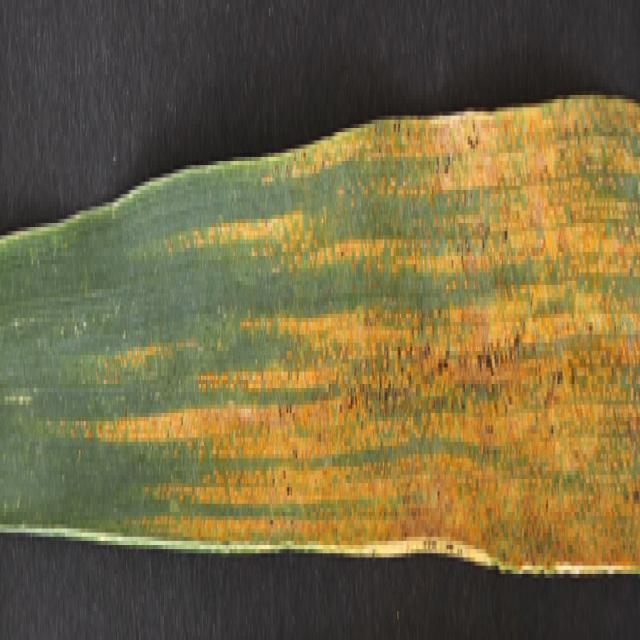leaf rust: (80, 95, 638, 582)
